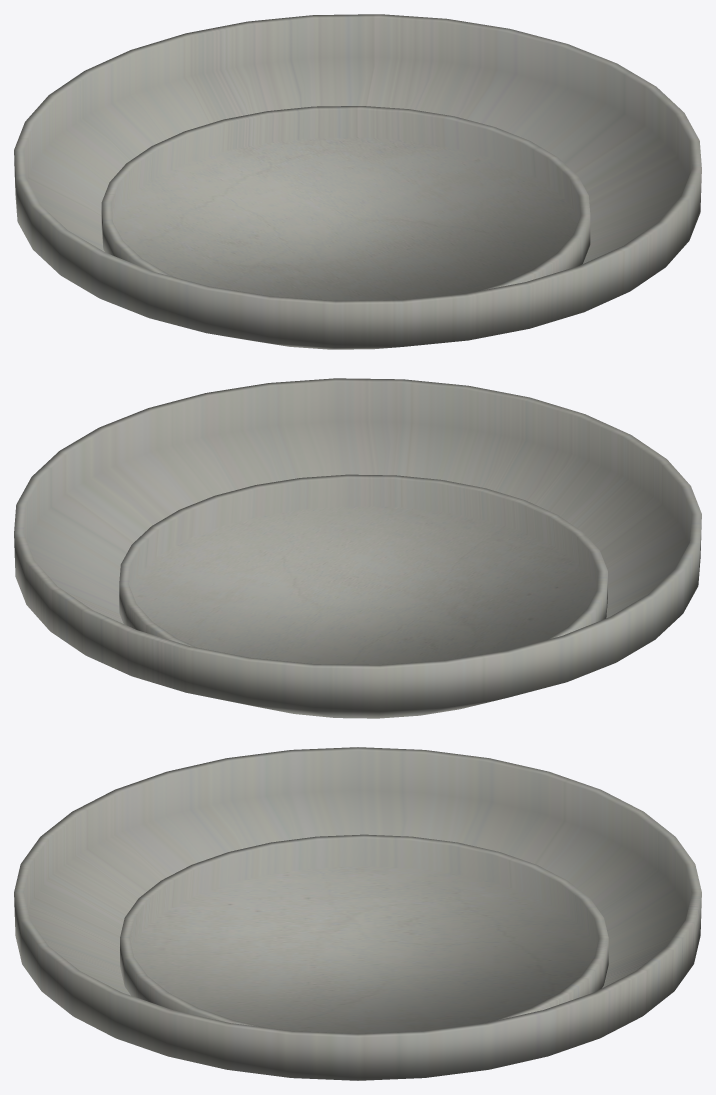
The model's file is Over pack Circle.fbx.
The picture shows the model from 3 angles, top to bottom: view 1: azimuth 30°, elevation 25°; view 2: azimuth 150°, elevation 25°; view 3: azimuth 270°, elevation 25°; orthographic projection.
Parts seen in each view (by area): view 1: Circle.005; view 2: Circle.005; view 3: Circle.005.
Part boxes in pixels (<box>): Circle.005: <box>14,14,701,349</box>; Circle.005: <box>14,378,701,718</box>; Circle.005: <box>14,747,701,1080</box>.
Bounding box in the file's own units: 32677 × 5158 × 32677.
1 material, 1 textured.
